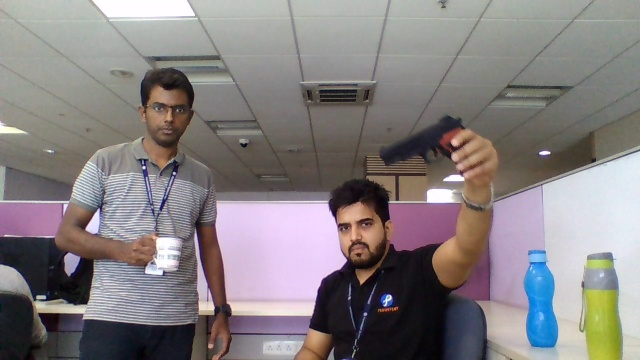gun: (378, 118, 455, 167)
